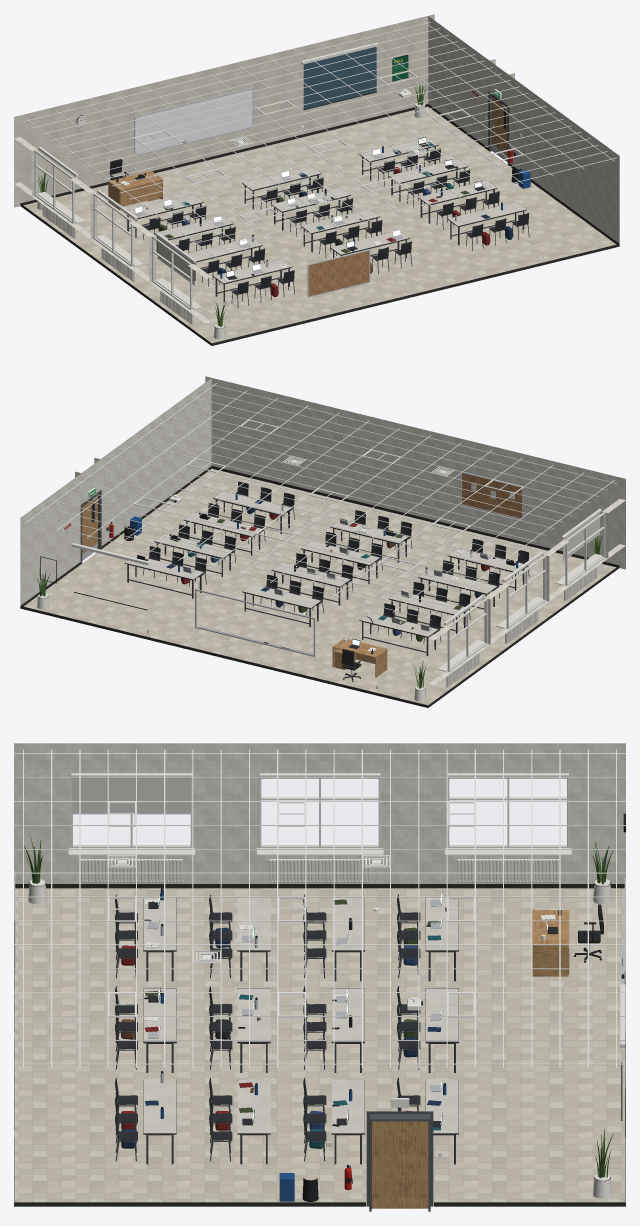
The model's file is room_m.glb.
3 views of the same model, one above another, from view 1: azimuth 30°, elevation 25°; view 2: azimuth 150°, elevation 25°; view 3: azimuth 270°, elevation 25° (orthographic). The views are drawn at different scales.
Visible parts, largest first — view 1: Room, Props, Emissive; view 2: Room, Props; view 3: Room, Props.
Part boxes in pixels (x1,y1,x2,y2): Room: (14,14,619,345); Props: (23,21,616,258); Emissive: (135,47,499,276); Room: (20,376,625,707); Props: (23,383,616,620); Room: (14,743,625,1211); Props: (14,749,625,1068).
Bounding box in the file's own units: 16.51 × 3.4 × 13.
61 materials, 15 textured.
